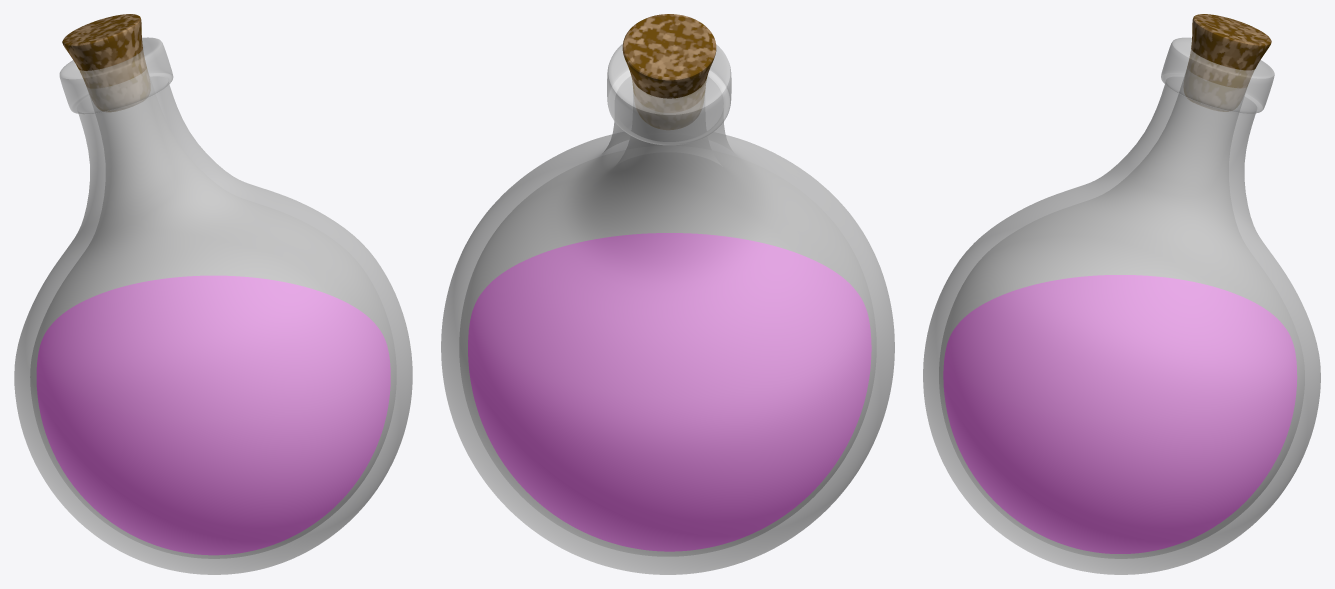
Rendered from memory_recovery.fbx.
3 views of the same model, side by side, from view 1: azimuth 30°, elevation 25°; view 2: azimuth 150°, elevation 25°; view 3: azimuth 270°, elevation 25° (orthographic). The views are drawn at different scales.
Visible parts, largest first — view 1: bottle; view 2: bottle; view 3: bottle.
Part boxes in pixels (left/top/right/bottom): bottle: left=14, top=14, right=412, bottom=574; bottle: left=441, top=14, right=894, bottom=574; bottle: left=923, top=14, right=1320, bottom=574.
Size of the model in its own units: 169 by 240 by 169.
3 materials, 1 textured.
